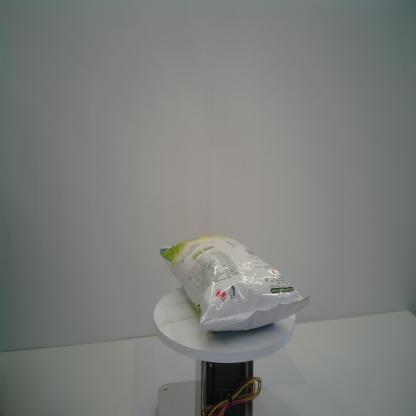Puffed Food: (159, 233, 311, 335)
